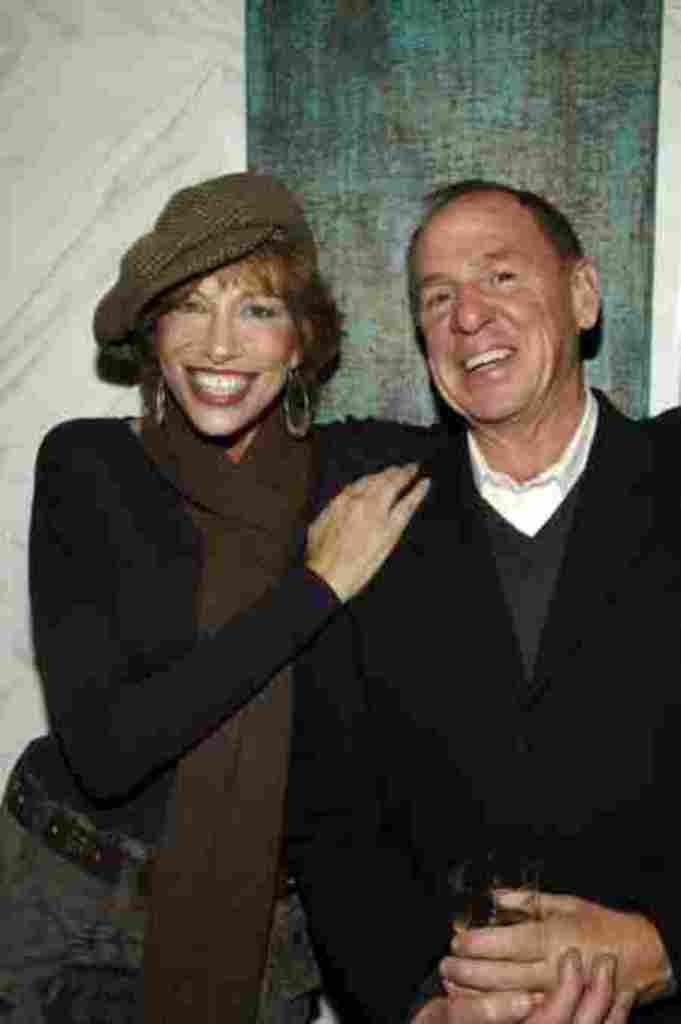Hat: (91, 170, 316, 352)
